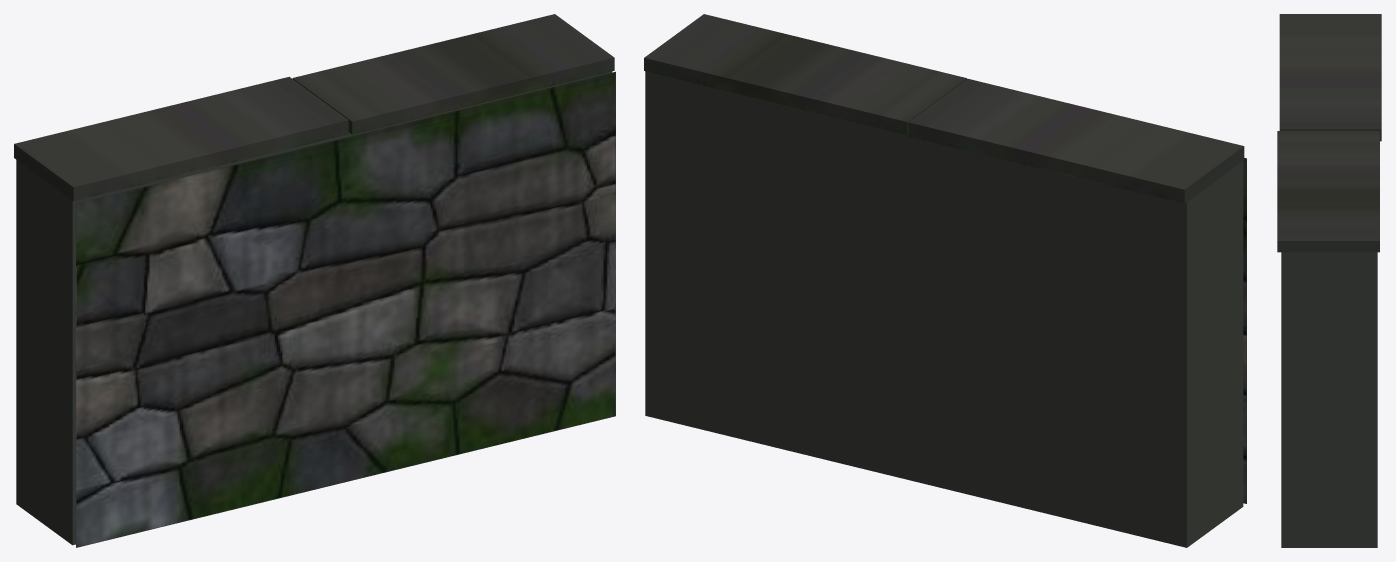
The model's file is stone-retaining-wall-c-lod.glb.
3 views of the same model, side by side, from view 1: azimuth 30°, elevation 25°; view 2: azimuth 150°, elevation 25°; view 3: azimuth 270°, elevation 25° (orthographic). The views are drawn at different scales.
Parts seen in each view (by area): view 1: stone-retaining-wall-c; view 2: stone-retaining-wall-c; view 3: stone-retaining-wall-c.
Part boxes in pixels (x1=…): stone-retaining-wall-c: x1=14, y1=14, x2=615, y2=547; stone-retaining-wall-c: x1=644, y1=14, x2=1246, y2=547; stone-retaining-wall-c: x1=1277, y1=14, x2=1381, y2=547.
Bounding box in the file's own units: 4 × 2.54 × 0.796.
2 materials, 1 textured.
